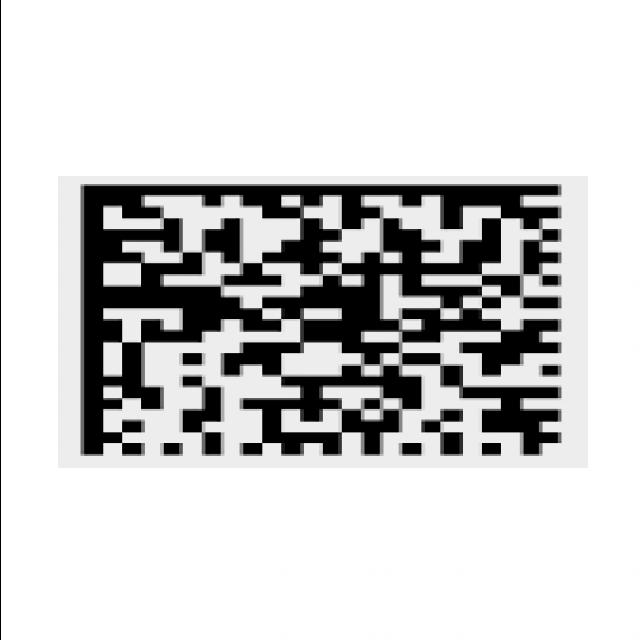DataMatrix: (57, 176, 587, 468)
